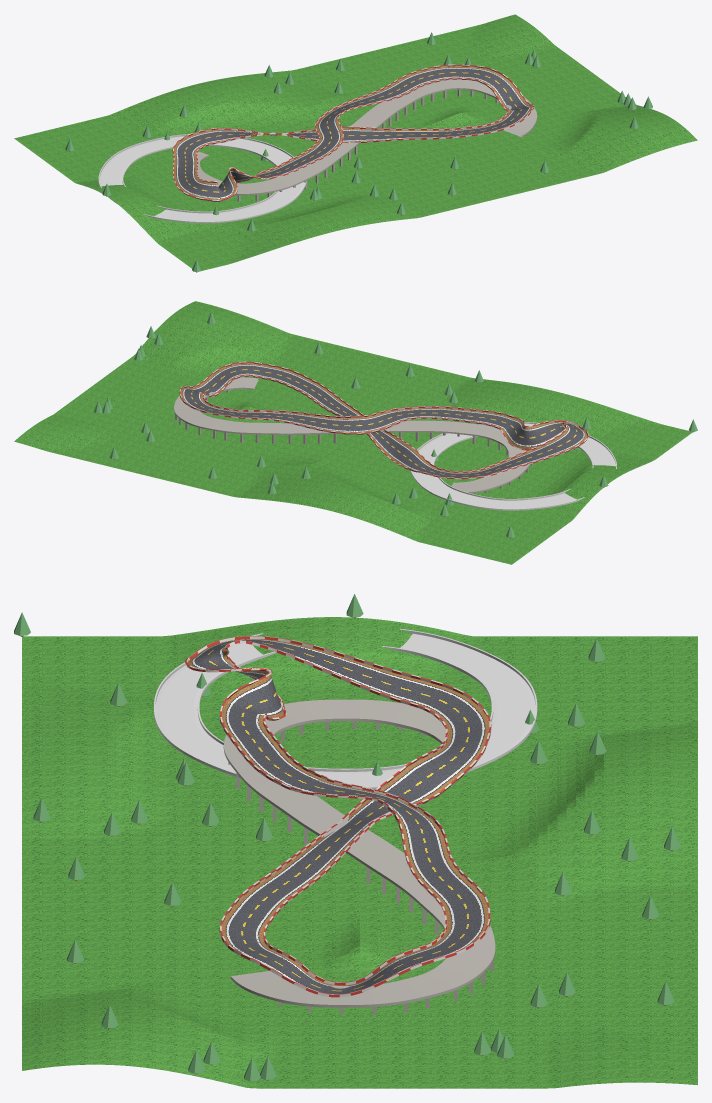
The picture shows the model from 3 angles, top to bottom: view 1: azimuth 30°, elevation 25°; view 2: azimuth 150°, elevation 25°; view 3: azimuth 270°, elevation 25°; orthographic projection. The views are drawn at different scales.
Visible parts, largest first — view 1: Terrain, Figure 8, Road, Bridge Deck; view 2: Terrain, Figure 8, Bridge Deck, Road; view 3: Terrain, Figure 8, Bridge Deck, Road.
Part boxes in pixels (x1,y1,x2,y2): Terrain: (14,14,697,270); Figure 8: (172,64,534,201); Road: (98,134,306,223); Bridge Deck: (197,79,537,195); Terrain: (14,301,692,564); Figure 8: (179,361,588,479); Bridge Deck: (174,377,530,493); Road: (410,422,616,510); Terrain: (22,617,697,1088); Figure 8: (185,636,491,997); Bridge Deck: (223,699,495,1007); Road: (154,628,537,789).
Bounding box in the file's own units: 384 × 23.14 × 243.
7 materials, 4 textured.
